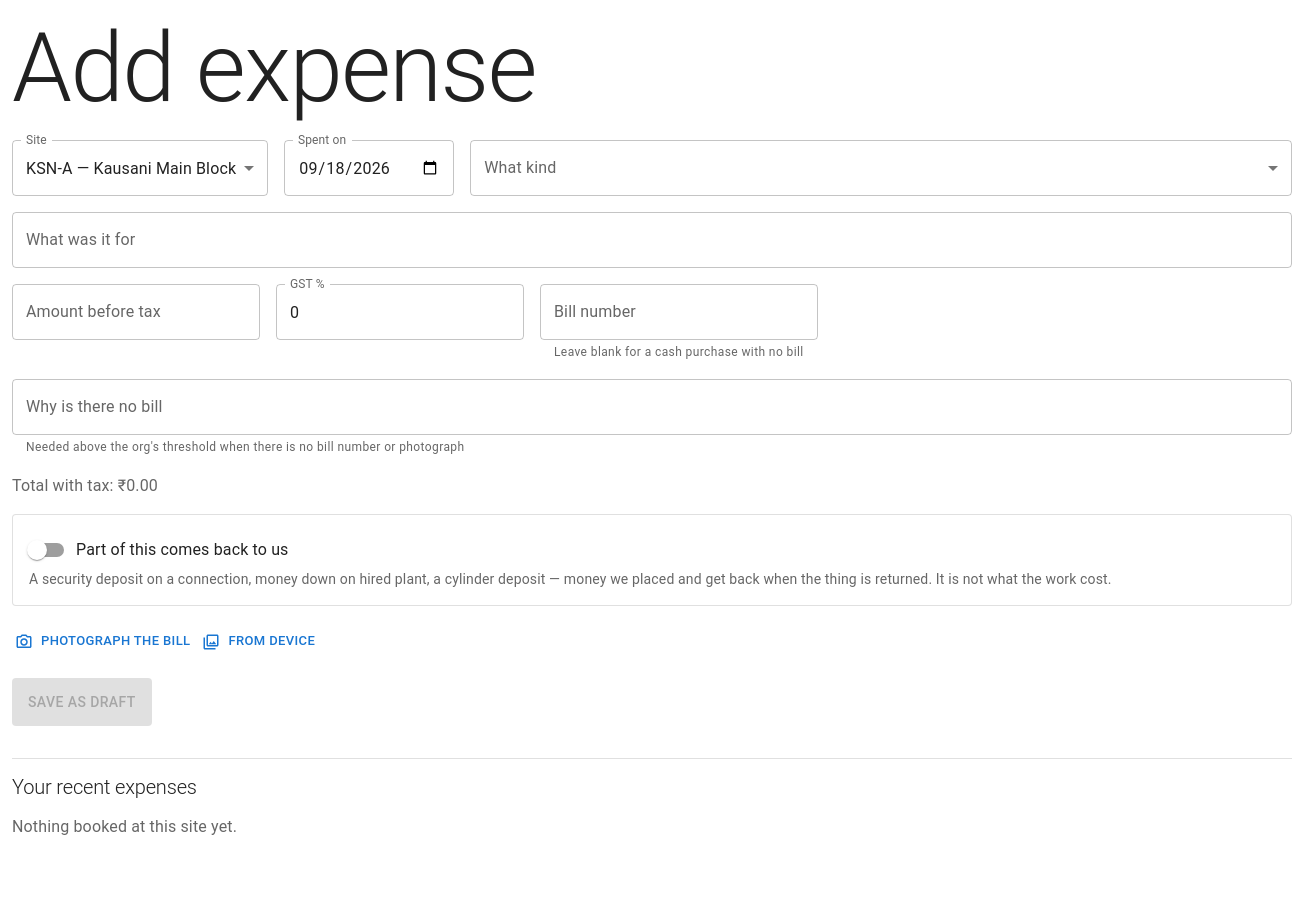
Test case: AddExpensePage › derives the total from the amount and the tax rate
Check: the dropdown named "Site" is shown, box [26, 158, 236, 178]
Type "10000" into the number field labelled "Amount before tax" at (136, 312), box [12, 284, 260, 340]
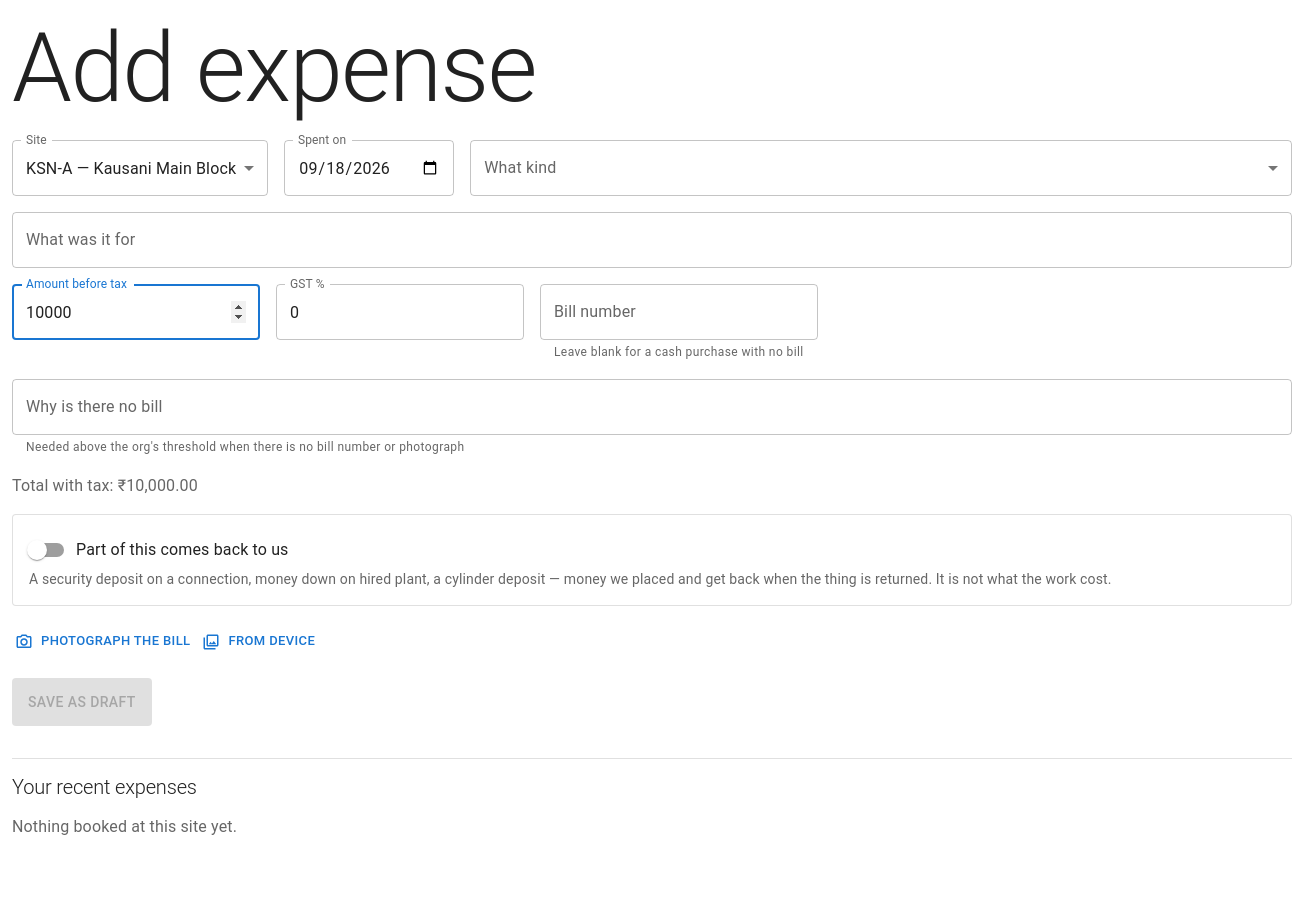
Replace the text in the number field labelled "GST %" with "18" at (400, 312), box [276, 284, 524, 340]
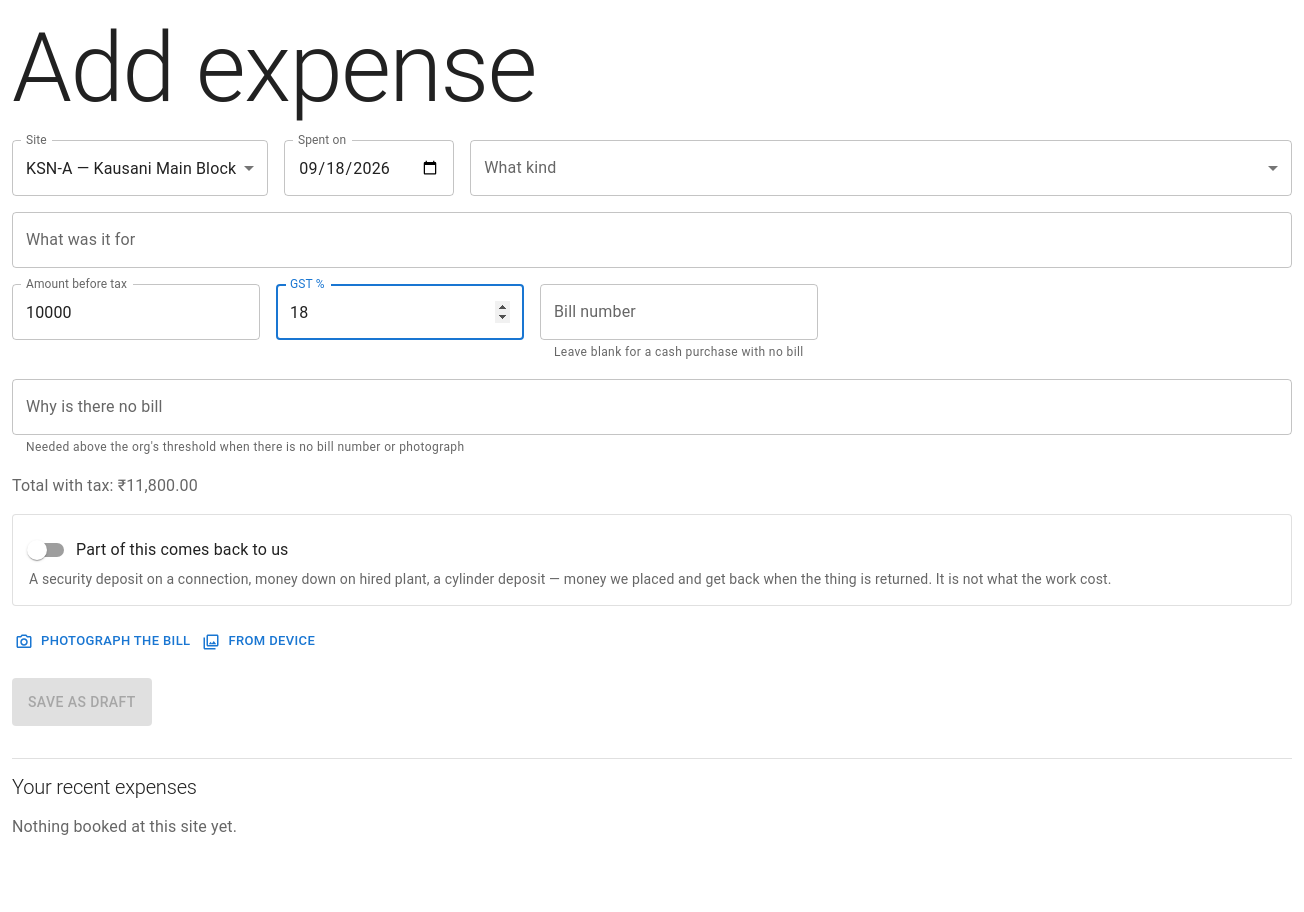
Check: the text "Total with tax: ₹11,800.00" is shown, box [12, 476, 198, 495]
